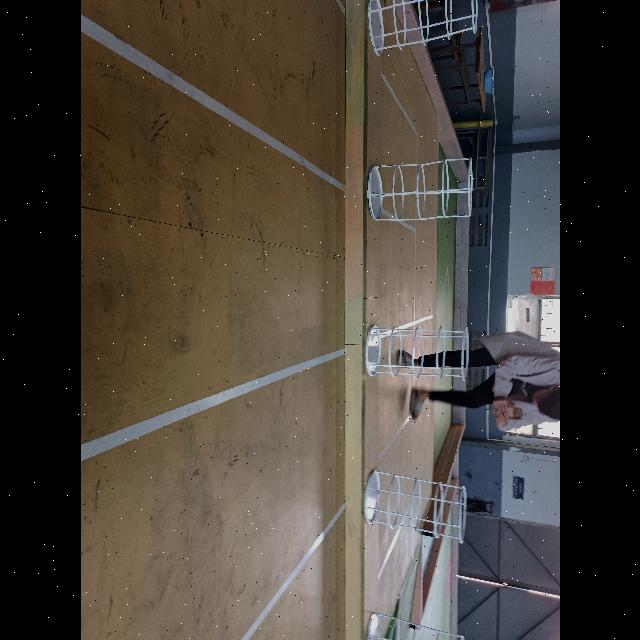S: (362, 469, 470, 544), (367, 157, 474, 222), (368, 0, 479, 58), (364, 324, 470, 381), (363, 610, 467, 640)
